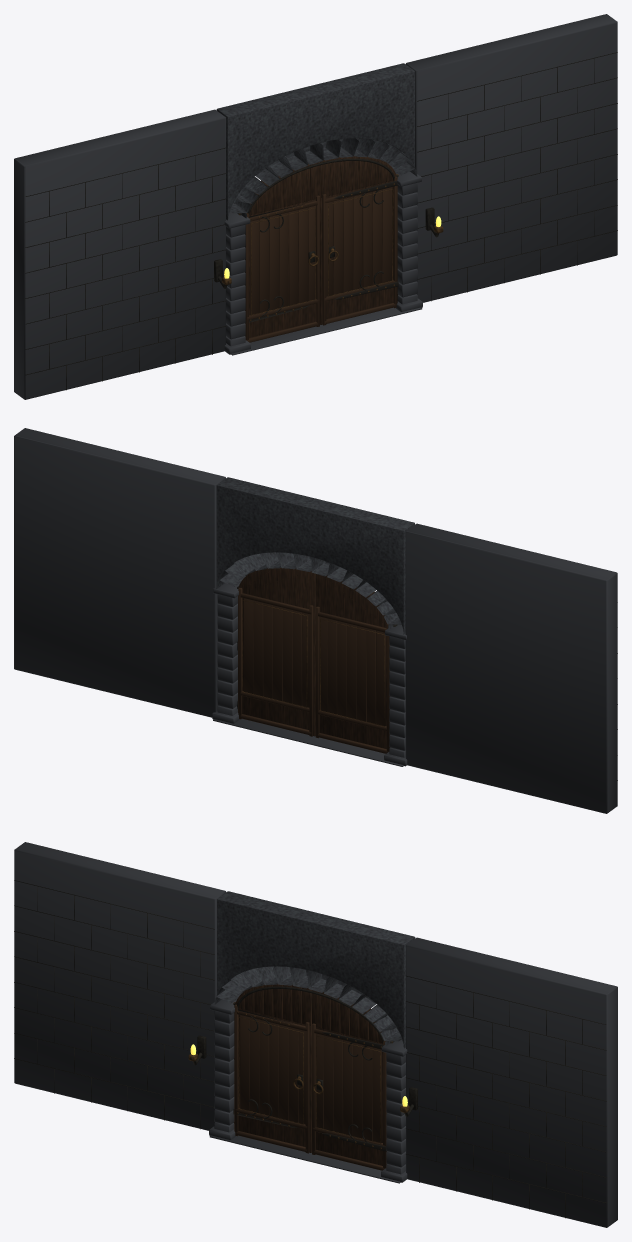
Rendered from doors.glb.
The picture shows the model from 3 angles, top to bottom: view 1: azimuth 30°, elevation 25°; view 2: azimuth 150°, elevation 25°; view 3: azimuth 330°, elevation 25°; orthographic projection.
Parts seen in each view (by area): view 1: doorway_root_Weathered basalt, door_leaf_right_Fumed oak, door_leaf_left_Fumed oak, doorway_root_Hammered black iron, door_leaf_right_Hammered black iron, door_leaf_left_Hammered black iron, door_leaf_right_Oxidized bronze; view 2: doorway_root_Weathered basalt, door_leaf_right_Fumed oak, door_leaf_left_Fumed oak; view 3: doorway_root_Weathered basalt, door_leaf_left_Fumed oak, door_leaf_right_Fumed oak, doorway_root_Hammered black iron, door_leaf_right_Hammered black iron, door_leaf_left_Hammered black iron, door_leaf_left_Oxidized bronze.
Part boxes in pixels (x1,y1,x2,y2): doorway_root_Weathered basalt: (14, 14, 617, 399); door_leaf_right_Fumed oak: (320, 156, 397, 325); door_leaf_left_Fumed oak: (245, 162, 319, 342); doorway_root_Hammered black iron: (25, 52, 617, 390); door_leaf_right_Hammered black iron: (321, 158, 398, 299); door_leaf_left_Hammered black iron: (237, 162, 321, 323); door_leaf_right_Oxidized bronze: (328, 174, 398, 298); doorway_root_Weathered basalt: (14, 428, 617, 813); door_leaf_right_Fumed oak: (238, 567, 315, 736); door_leaf_left_Fumed oak: (315, 573, 389, 753); doorway_root_Weathered basalt: (14, 842, 617, 1227); door_leaf_left_Fumed oak: (234, 984, 311, 1153); door_leaf_right_Fumed oak: (312, 990, 386, 1170); doorway_root_Hammered black iron: (14, 880, 606, 1218); door_leaf_right_Hammered black iron: (310, 990, 394, 1151); door_leaf_left_Hammered black iron: (233, 986, 310, 1127); door_leaf_left_Oxidized bronze: (233, 1002, 303, 1126).
Bounding box in the file's own units: 24.4 × 9.2 × 1.92.
Materials: 5 (4 with a texture image).
